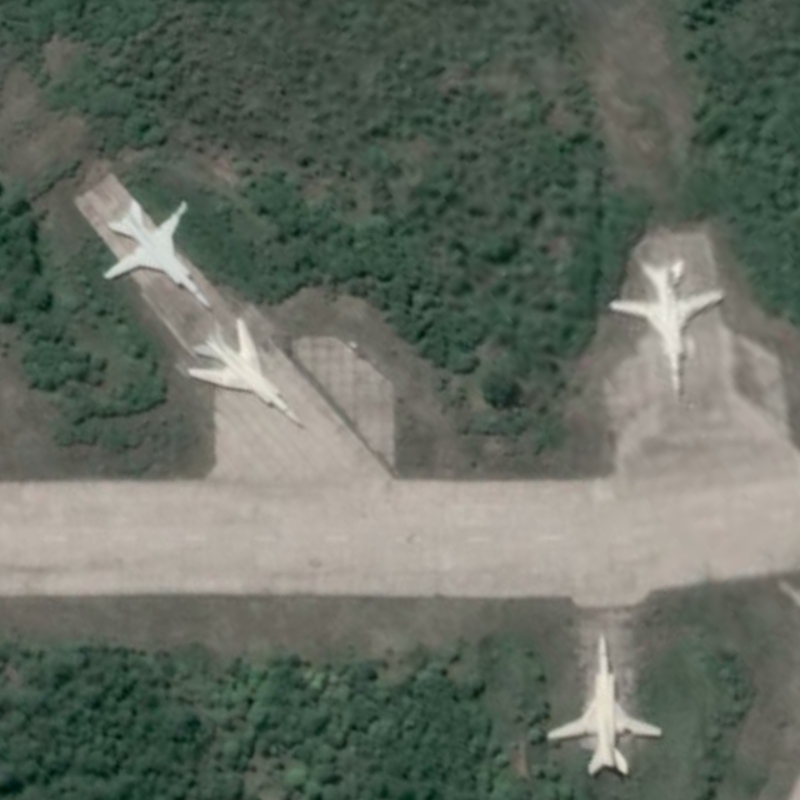A12: (543, 630, 666, 778), (607, 255, 727, 401), (183, 314, 311, 435), (98, 197, 215, 311)
